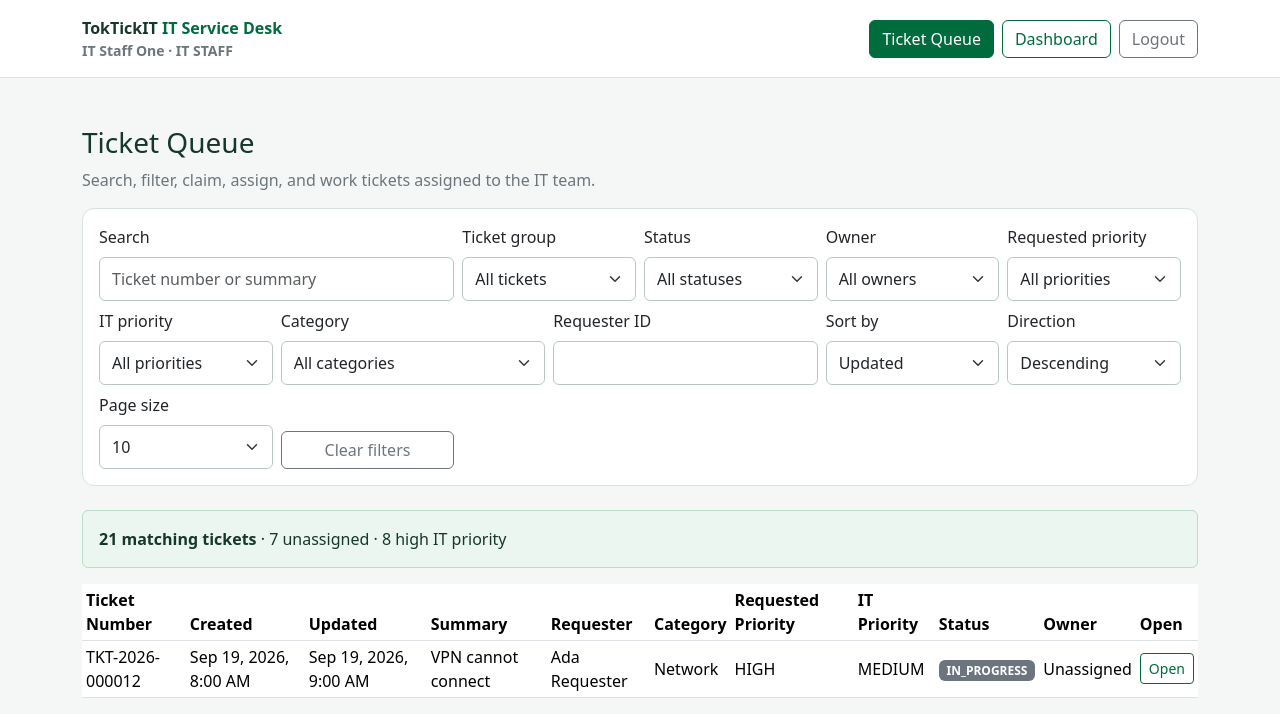
Test: Issue #38 IT Staff Ticket Queue UI › opens the selected ticket detail from the queue
The image size is (1280, 714).
Click the button "Ticket Queue". click: (932, 38)
box: [869, 20, 994, 58]
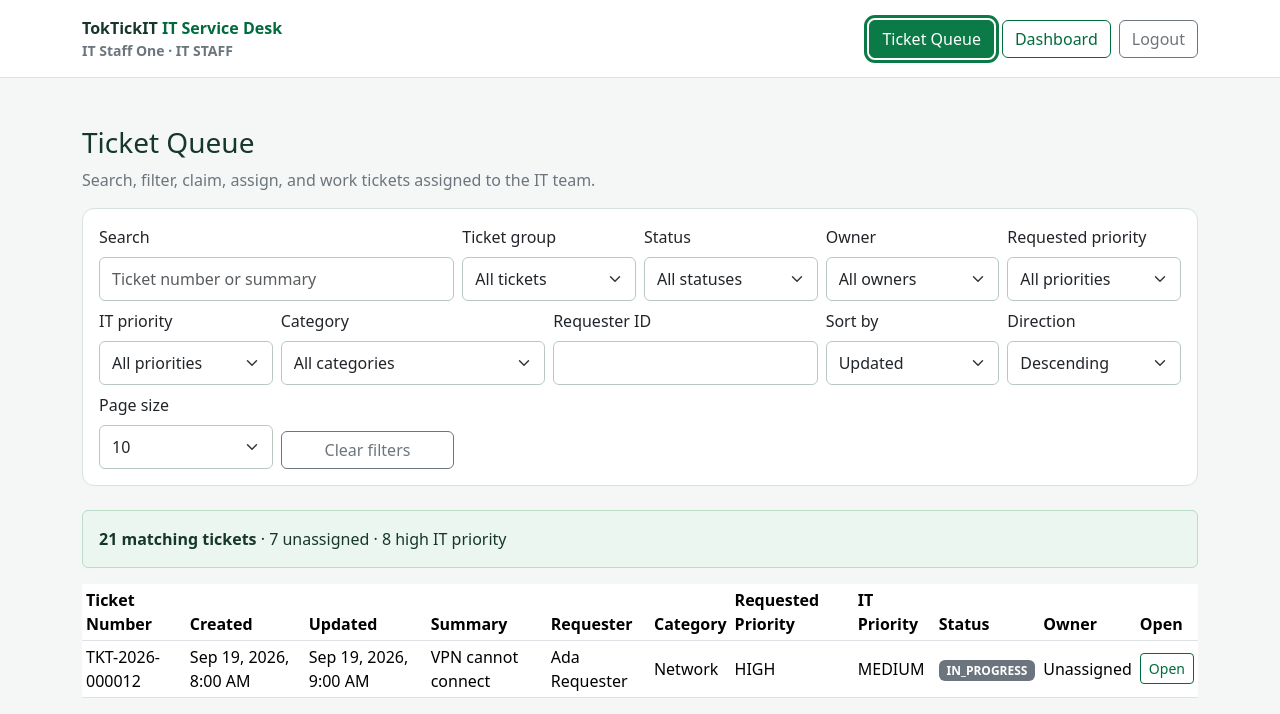
Click the button with aria-label "Open TKT-2026-000012". click: (1167, 669)
box: [1140, 653, 1194, 684]
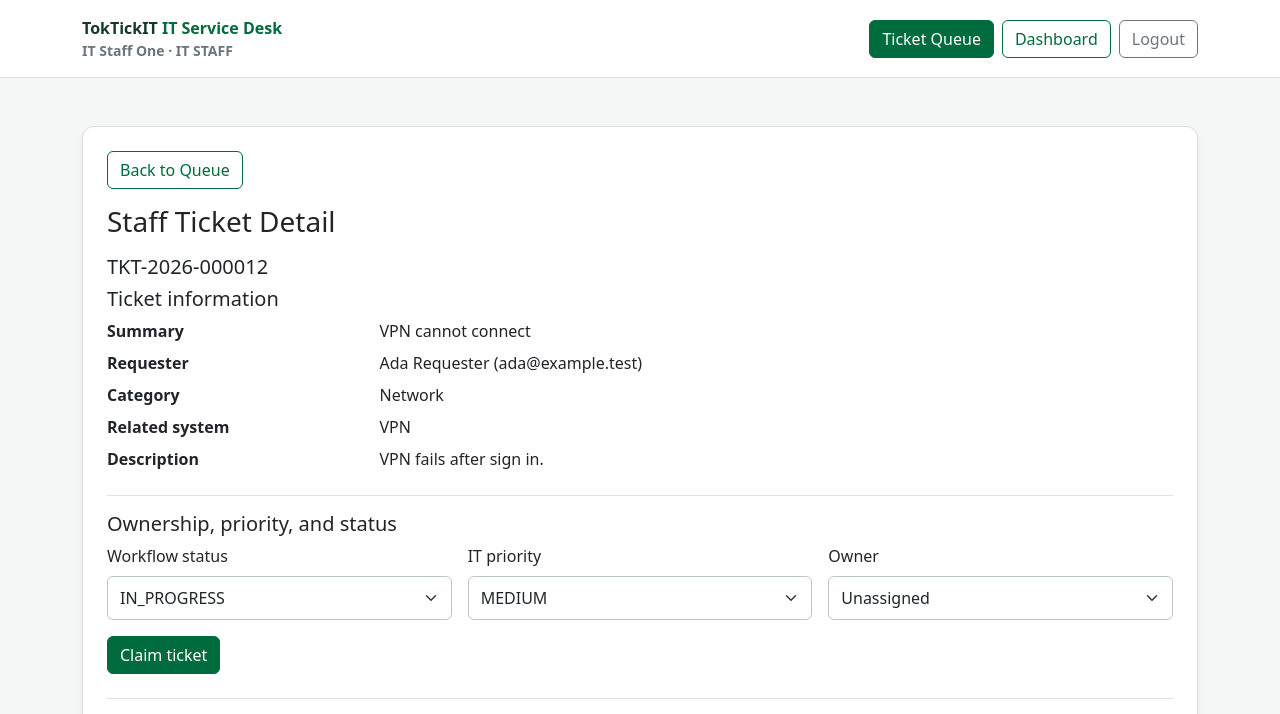
Expected: the heading "Staff Ticket Detail" is shown, [107, 202, 336, 240]
Expected: the text "VPN fails after sign in." is shown, [380, 448, 544, 470]
